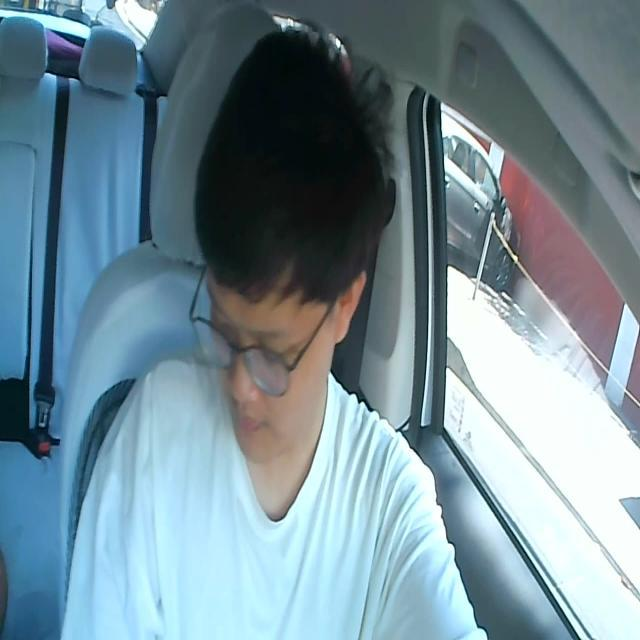Eye-Close: (260, 336, 292, 367), (208, 308, 240, 338)
Inattentive: (191, 24, 387, 463)
Normal: (233, 410, 270, 439)
